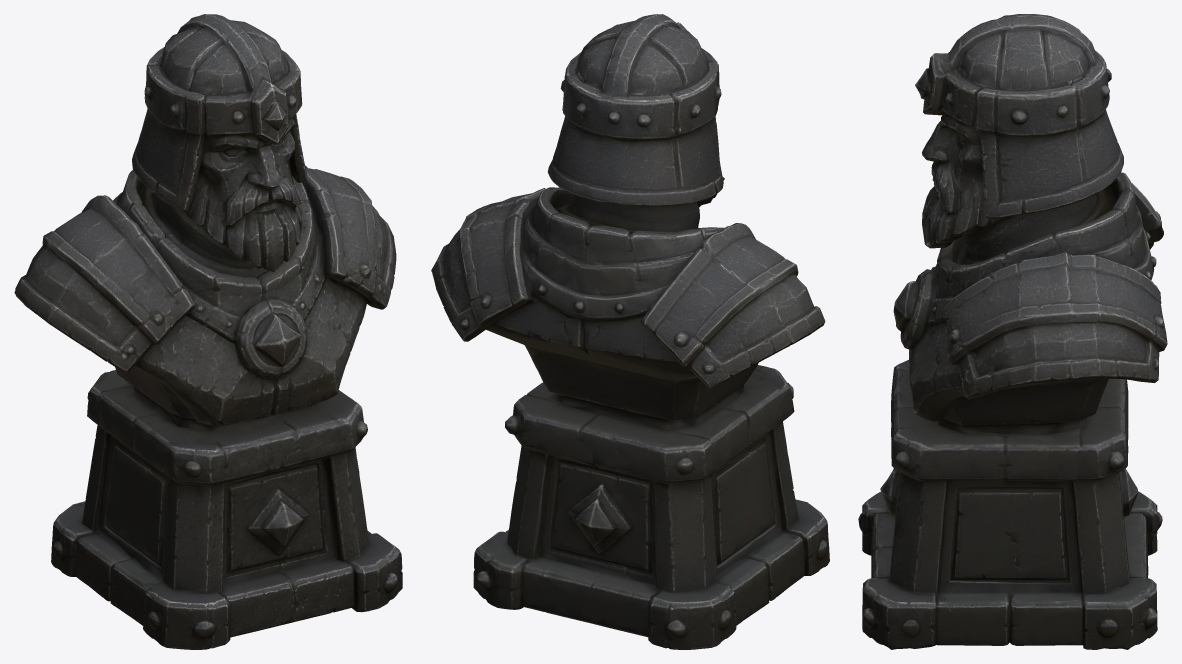
The model's file is Bust_01.fbx.
The picture shows the model from 3 angles, left to right: view 1: azimuth 30°, elevation 25°; view 2: azimuth 150°, elevation 25°; view 3: azimuth 270°, elevation 25°; orthographic projection. The views are drawn at different scales.
Visible parts, largest first — view 1: Bust_01; view 2: Bust_01; view 3: Bust_01.
Boxes of the visible parts, x1,y1,x2,y2 form: Bust_01: [14, 14, 402, 649]; Bust_01: [431, 14, 829, 649]; Bust_01: [858, 14, 1167, 649].
Bounding box in the file's own units: 100 × 147 × 71.07.
1 material, 1 textured.
